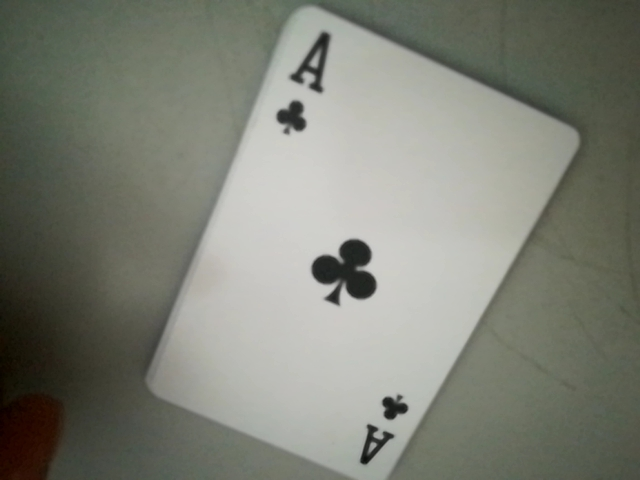mh a: (259, 20, 336, 152), (356, 387, 419, 480)
